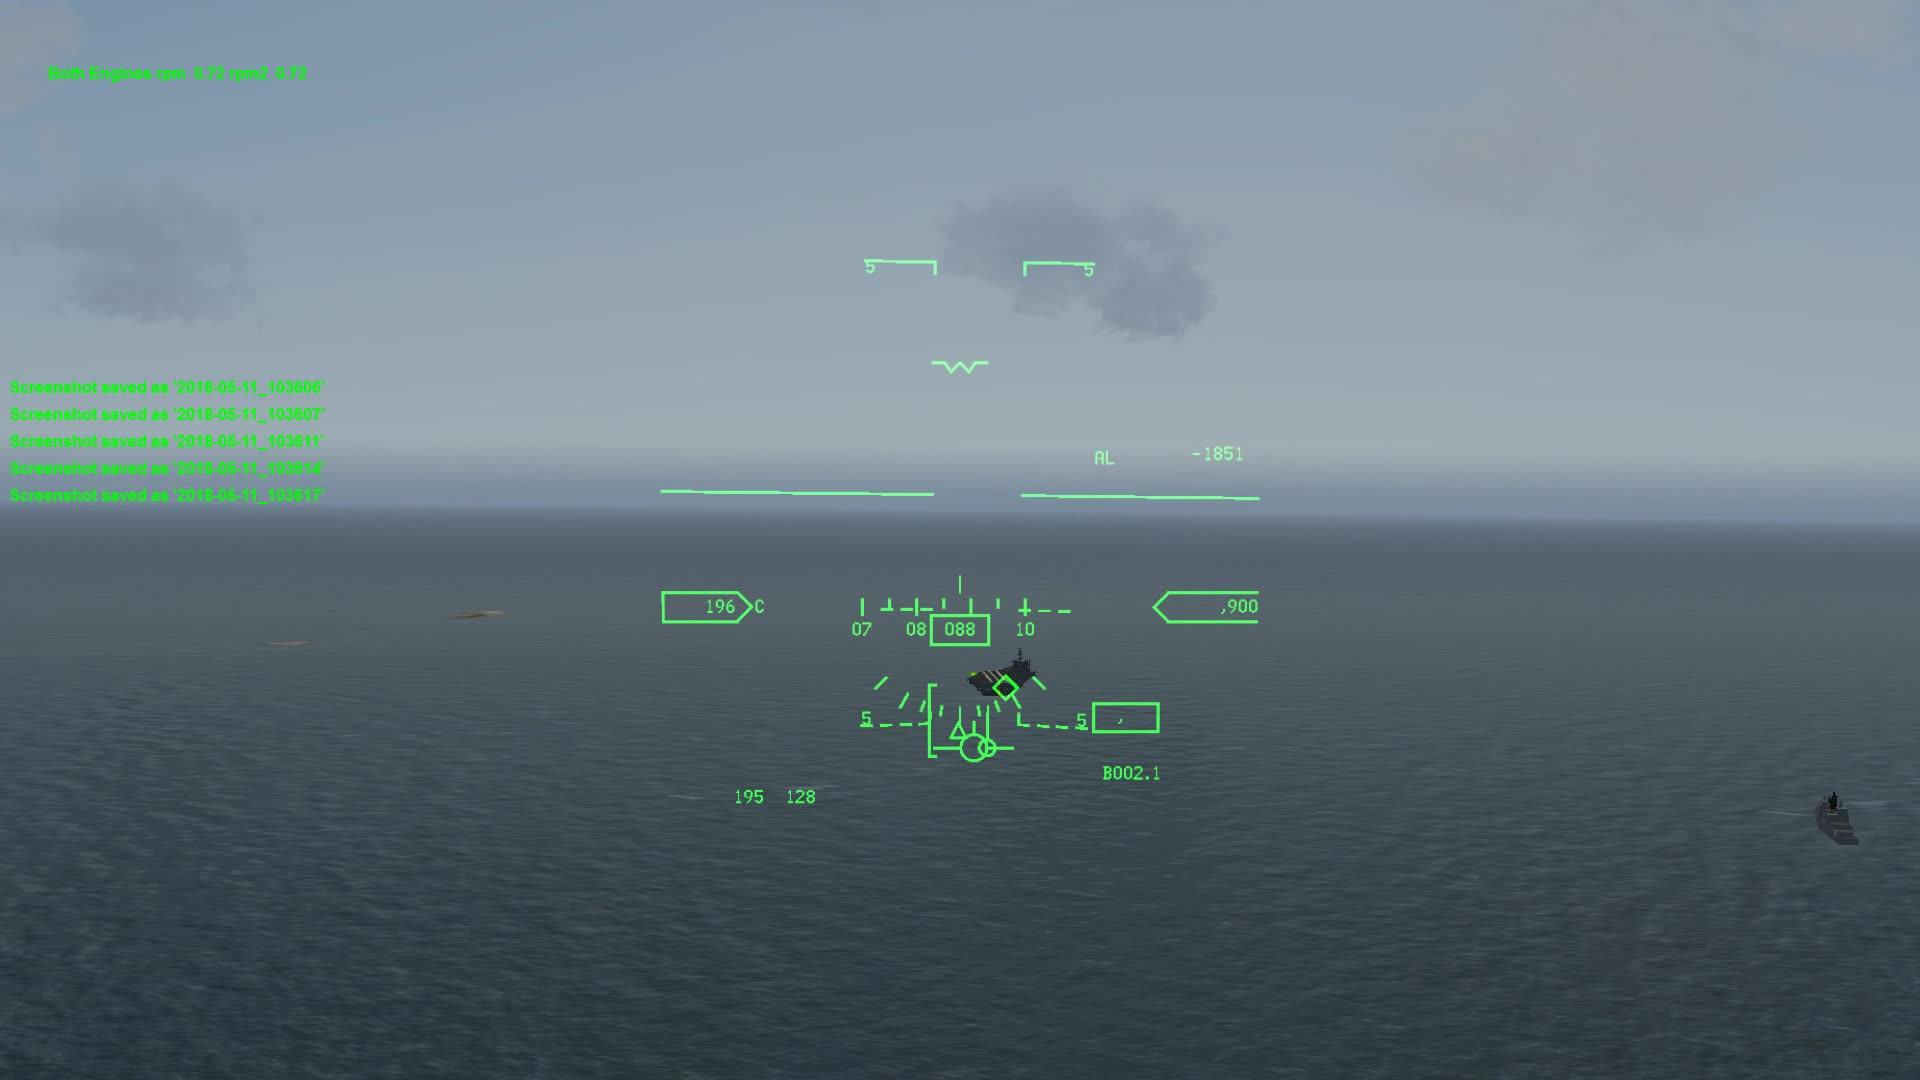speed vector: (934, 727, 1017, 766)
